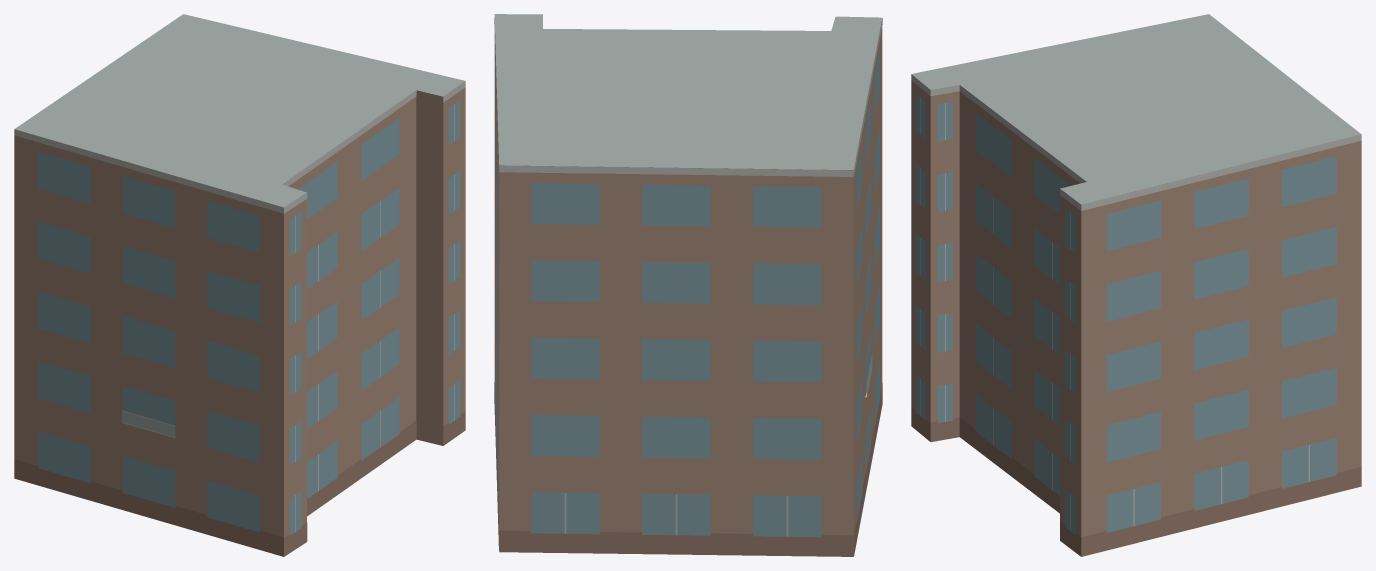
Rendered from survey-upis-32504707.glb.
The picture shows the model from 3 angles, left to right: view 1: azimuth 30°, elevation 25°; view 2: azimuth 150°, elevation 25°; view 3: azimuth 270°, elevation 25°; orthographic projection. The views are drawn at different scales.
Parts seen in each view (by area): view 1: survey-upis-32504707.tmp; view 2: survey-upis-32504707.tmp; view 3: survey-upis-32504707.tmp.
Part boxes in pixels (x1,y1,x2,y2): survey-upis-32504707.tmp: [14, 14, 465, 556]; survey-upis-32504707.tmp: [494, 14, 882, 556]; survey-upis-32504707.tmp: [911, 14, 1361, 556].
Size of the model in its own units: 15.93 by 13.7 by 15.89.
